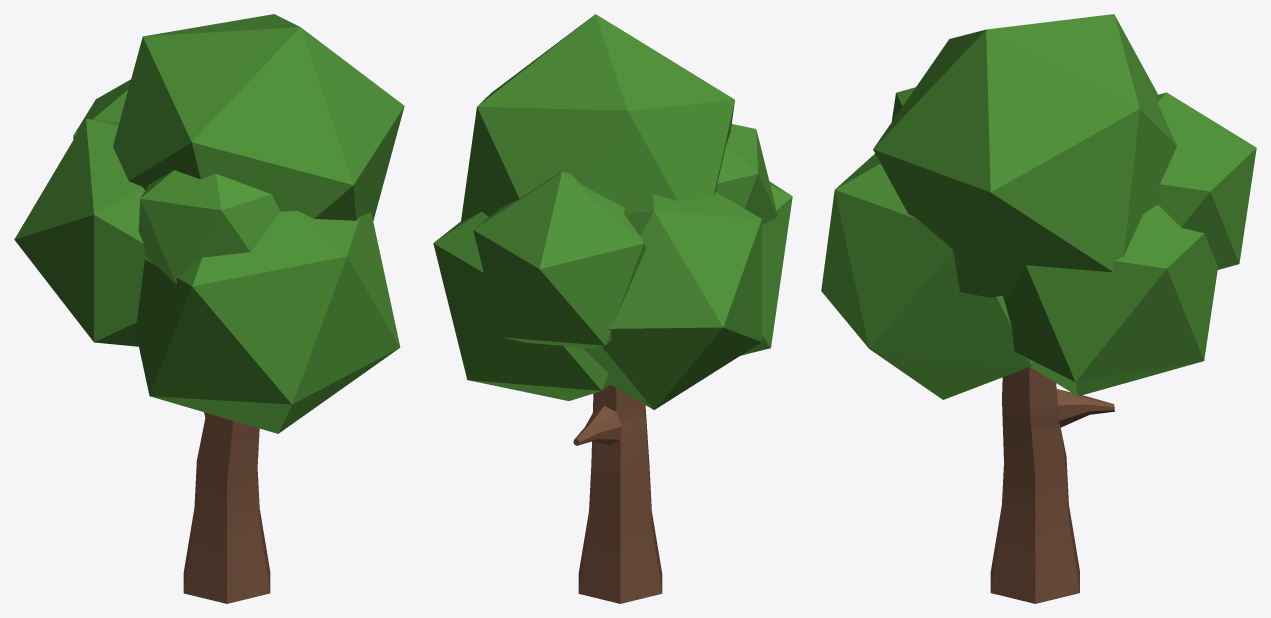
File: Leafy_Tree2.fbx
The picture shows the model from 3 angles, left to right: view 1: azimuth 30°, elevation 25°; view 2: azimuth 150°, elevation 25°; view 3: azimuth 270°, elevation 25°; orthographic projection. The views are drawn at different scales.
Visible parts, largest first — view 1: polySurface7; view 2: polySurface7; view 3: polySurface7.
Part boxes in pixels (box(x1,y1,x2,y2)): polySurface7: box(14, 14, 404, 603); polySurface7: box(433, 14, 792, 603); polySurface7: box(821, 14, 1256, 603).
Bounding box in the file's own units: 8.01 × 13.61 × 9.3.
